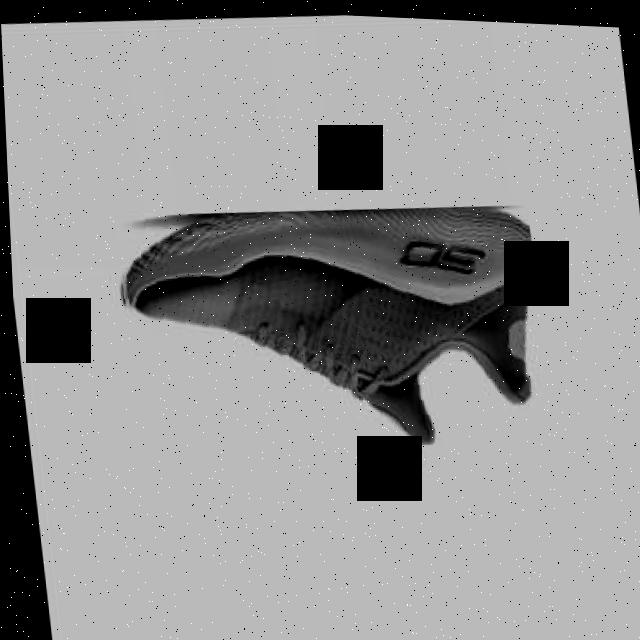shoe: (106, 185, 552, 477)
